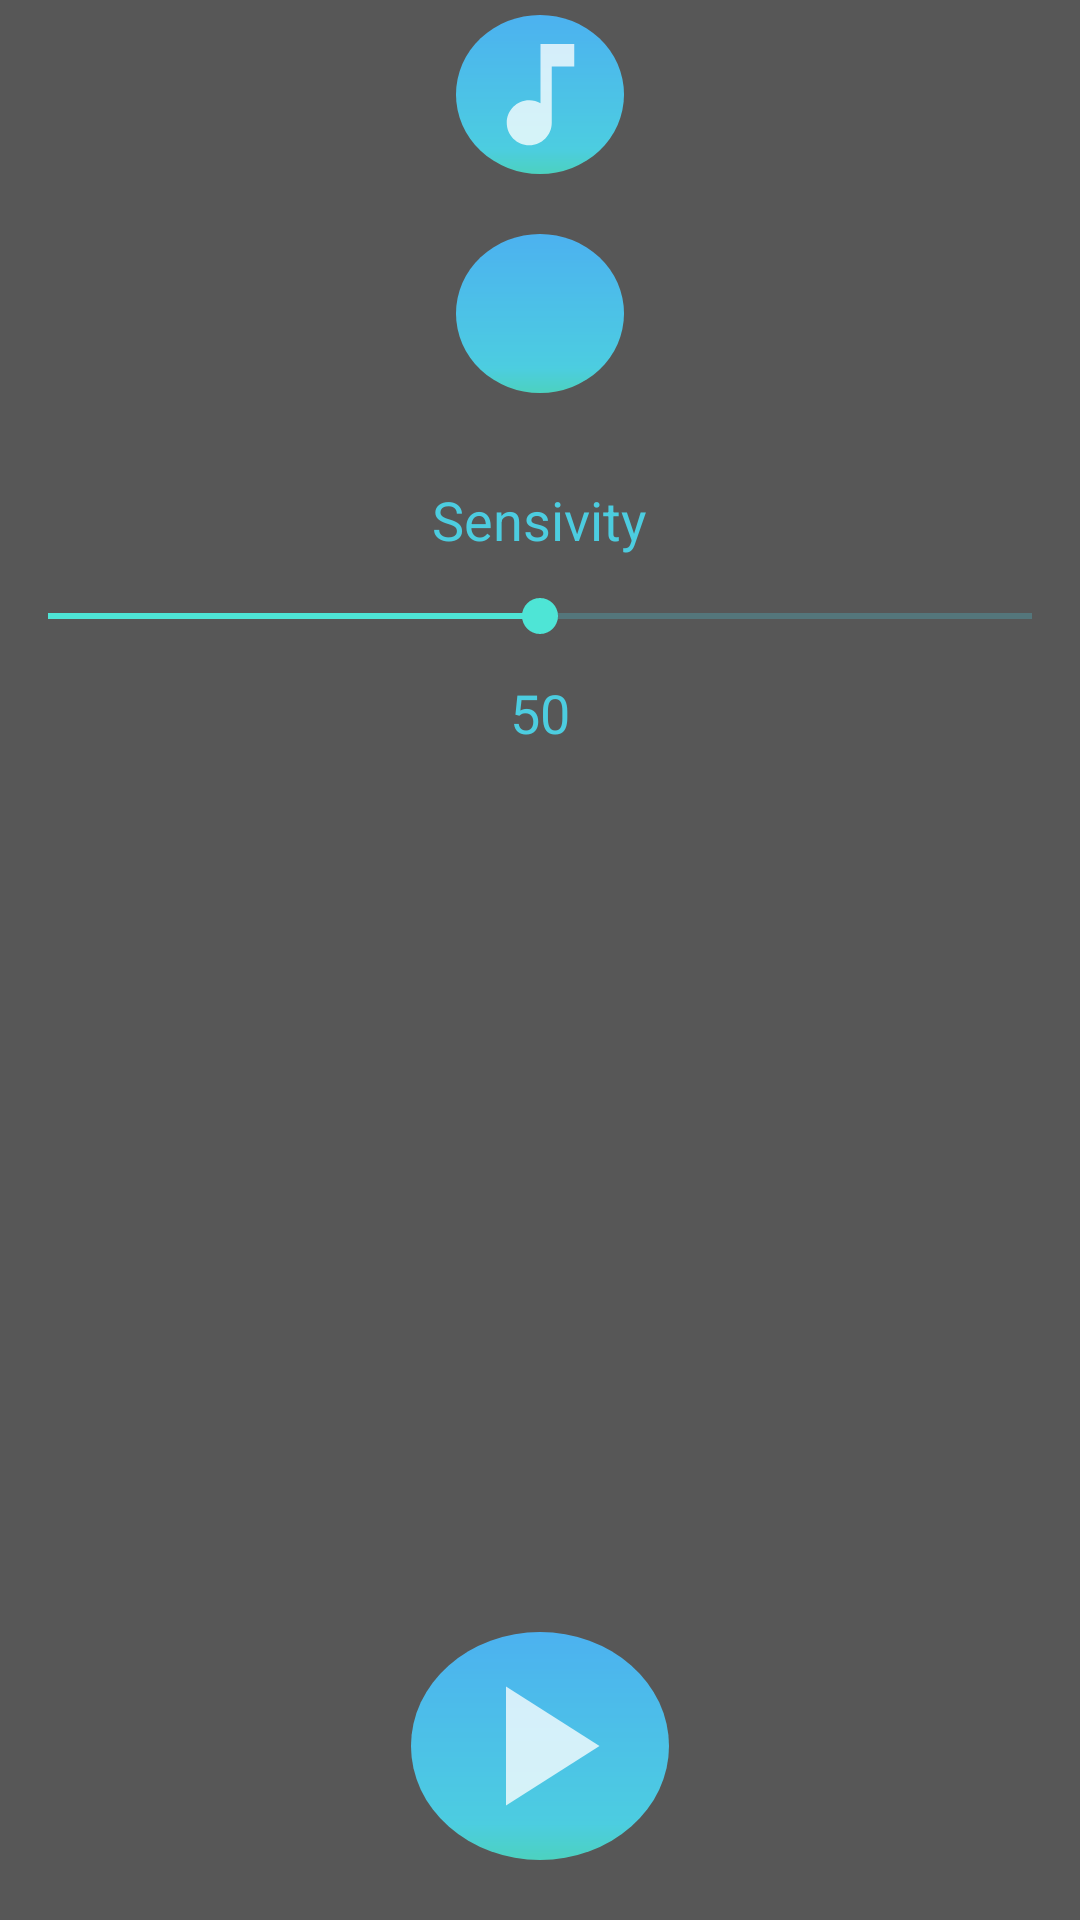

Icon click points for this 1080 × 1920 phone screenshot, format [x,y]:
music note: [540,94]
play: [540,1746]
